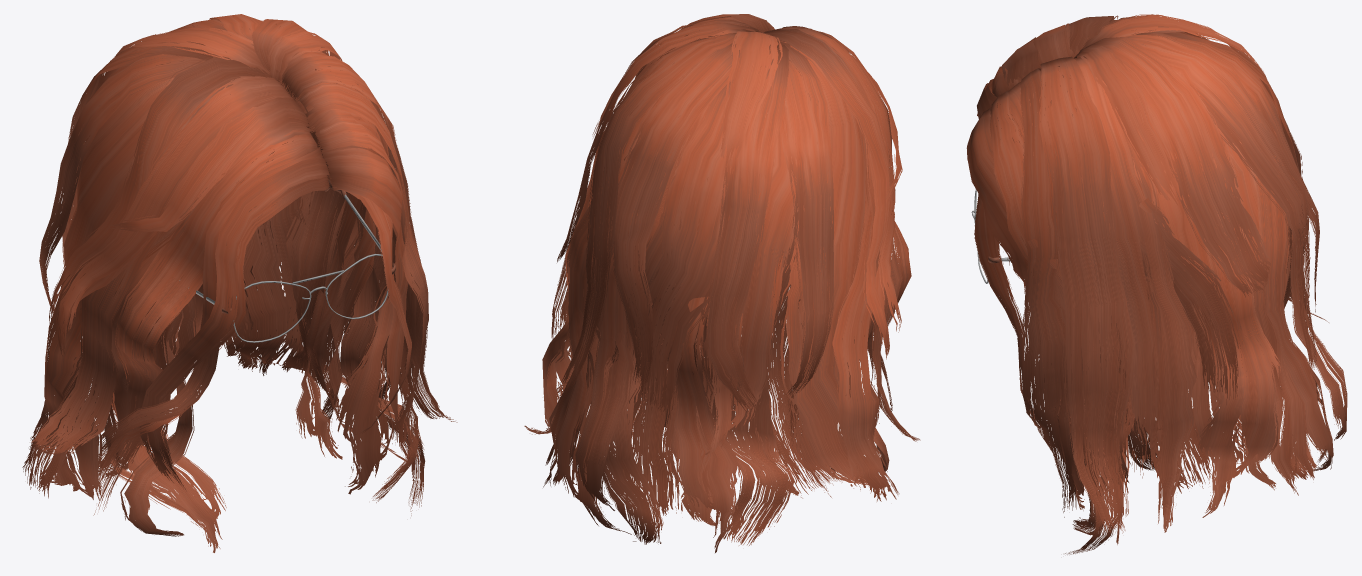
The model's file is Hair.fbx.
3 views of the same model, side by side, from view 1: azimuth 30°, elevation 25°; view 2: azimuth 150°, elevation 25°; view 3: azimuth 270°, elevation 25° (orthographic). The views are drawn at different scales.
Parts seen in each view (by area): view 1: Hair002, Eyewear; view 2: Hair002; view 3: Hair002.
Boxes of the visible parts, x1,y1,x2,y2 form: Hair002: [22, 14, 457, 552]; Eyewear: [179, 180, 395, 342]; Hair002: [524, 14, 920, 552]; Hair002: [966, 14, 1347, 554].
Size of the model in its own units: 10.53 by 12 by 8.61.
Materials: 2 (2 with a texture image).
